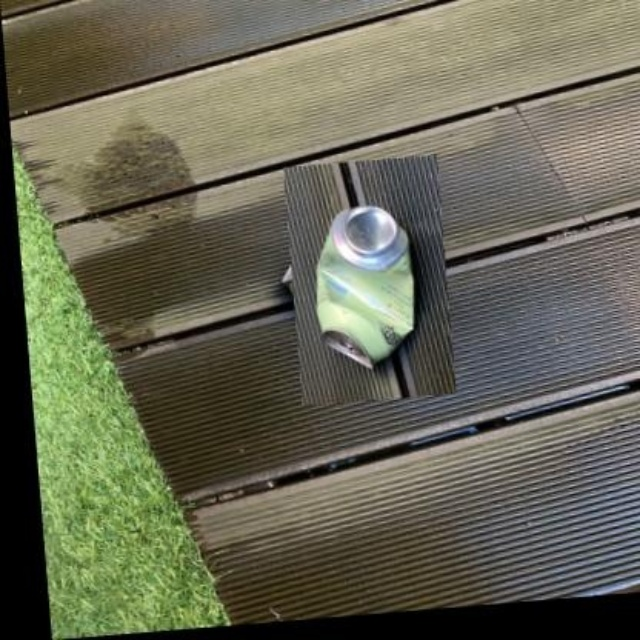trash: (317, 206, 412, 368)
